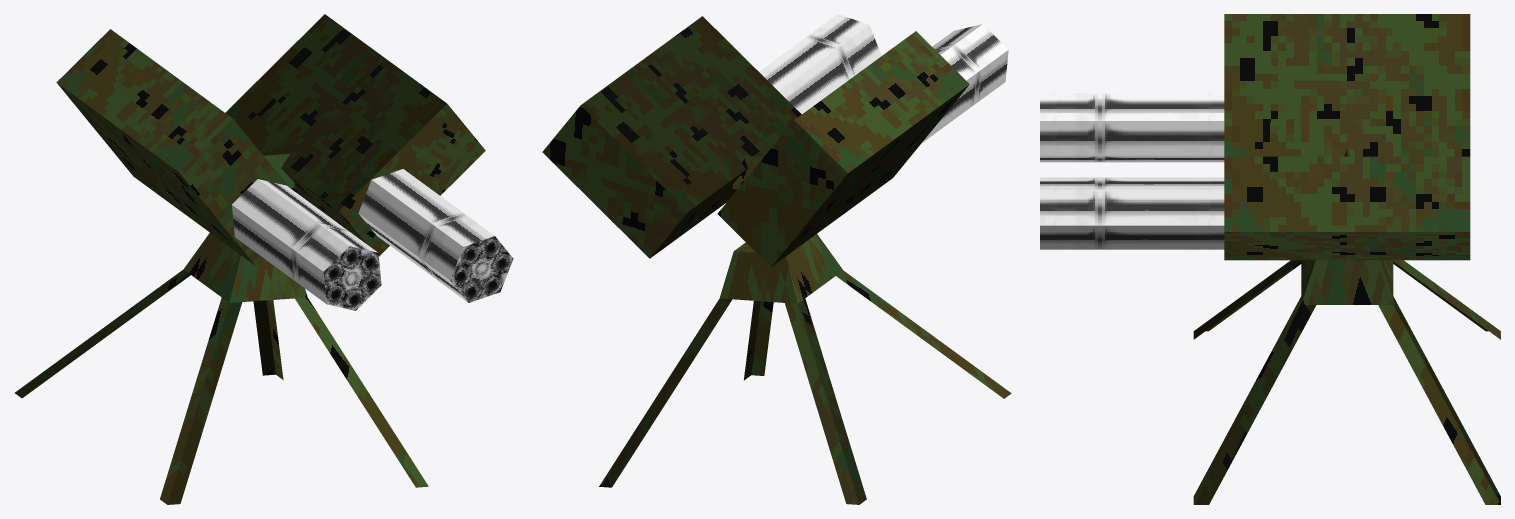
Rendered from primary_356.glb.
3 views of the same model, side by side, from view 1: azimuth 30°, elevation 25°; view 2: azimuth 150°, elevation 25°; view 3: azimuth 270°, elevation 25° (orthographic).
Parts seen in each view (by area): view 1: Object; view 2: Object; view 3: Object.
Part boxes in pixels (<box>): Object: <box>15,14,513,504</box>; Object: <box>542,14,1011,504</box>; Object: <box>1040,14,1500,504</box>.
Size of the model in its own units: 1.42 by 1.63 by 1.7.
Materials: 4 (4 with a texture image).
